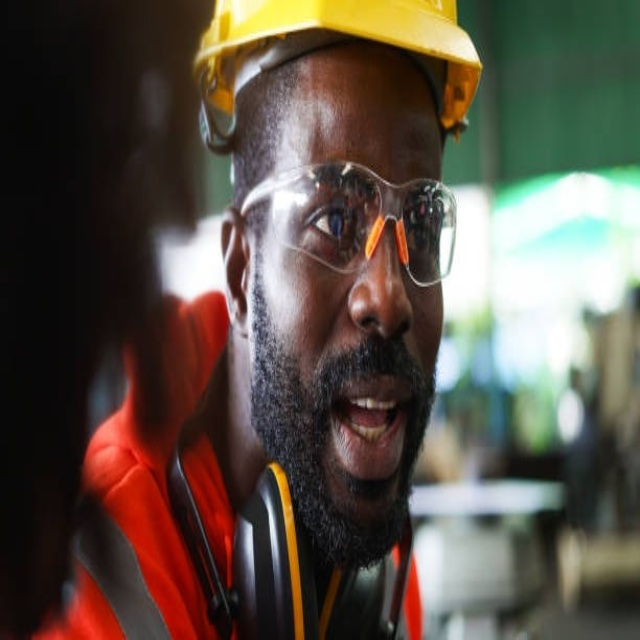Gafas: (234, 156, 461, 292)
Sin_mascara: (324, 365, 418, 495)
